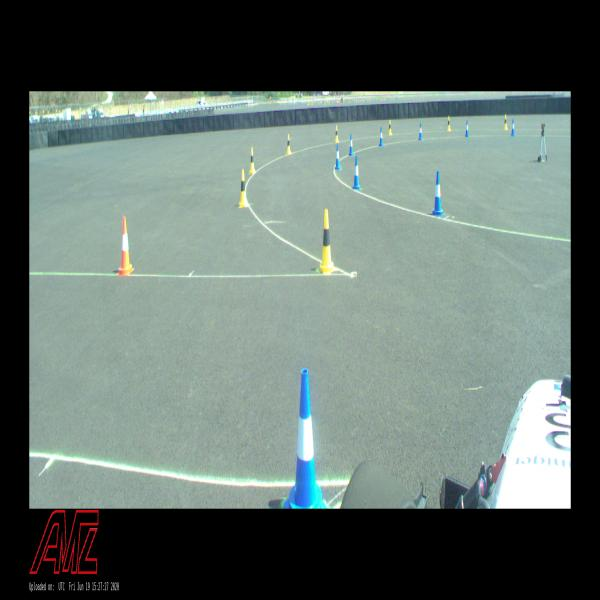blue_cone: (283, 369, 327, 508), (432, 172, 443, 214), (353, 156, 360, 189), (335, 143, 341, 169), (348, 134, 353, 156), (380, 127, 384, 146), (418, 123, 422, 140), (465, 120, 469, 137), (511, 119, 515, 136)
orange_cone: (116, 216, 134, 276)
yellow_cone: (318, 209, 334, 274), (239, 170, 247, 206), (250, 148, 255, 174), (286, 134, 291, 154), (335, 125, 339, 143), (388, 120, 392, 135), (447, 116, 451, 131), (504, 114, 507, 130)
